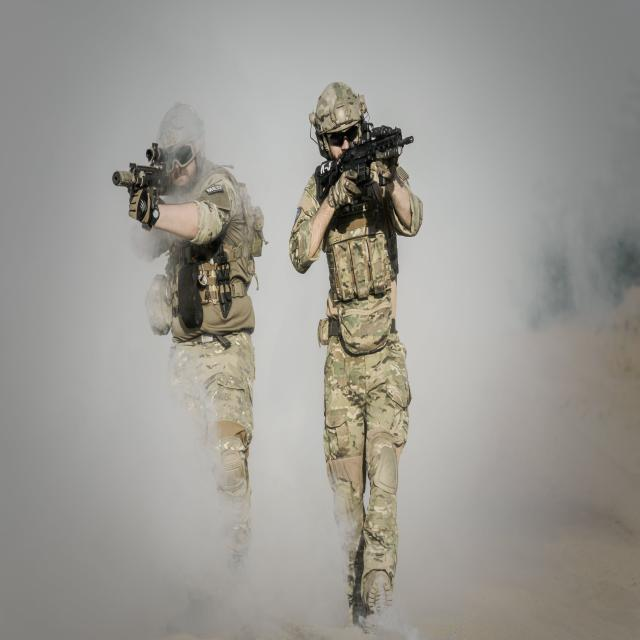Gun: (316, 122, 414, 199), (112, 142, 171, 229)
